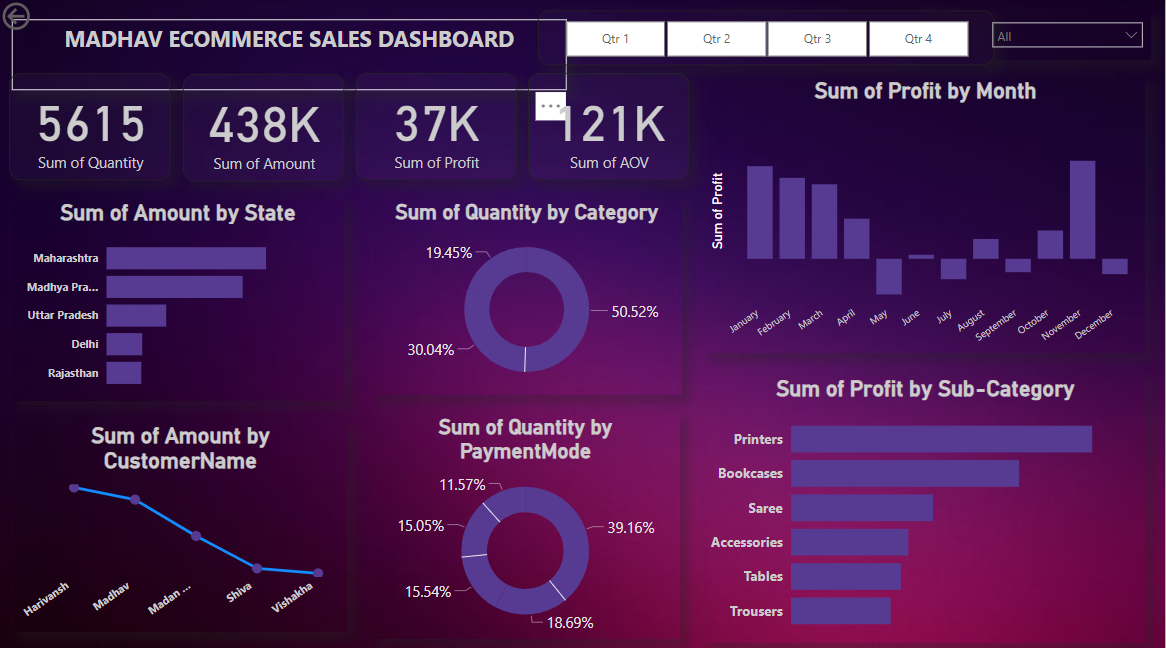

What the dashboard file says about the page in this screenshot:
{"tool":"powerbi","page":{"name":"Page 1","canvas":[1280,720],"ordinal":0},"visuals":[{"type":"textbox","box":[15.1,23.3,608.7,78.1],"z":0},{"type":"clusteredColumnChart","fields":{"Y":["Details.Profit"],"Category":["Orders.Order Date.Variation.Date Hierarchy.Month"]},"box":[776,87.7,482.6,301.6],"z":1000},{"type":"clusteredBarChart","fields":{"Category":["Details.Sub-Category"],"Y":["Details.Profit"]},"box":[776,414.1,482.6,293.4],"z":2000},{"type":"donutChart","fields":{"Category":["Details.Category"],"Y":["Details.Quantity"]},"box":[409.9,220.7,340,215.3],"z":3000},{"type":"donutChart","fields":{"Y":["Details.Quantity"],"Category":["Details.PaymentMode"]},"box":[409.9,456.6,337.3,246.8],"z":4000},{"type":"card","fields":{"Values":["Details.Quantity"]},"box":[12.3,82.3,176.9,117.9],"z":5000},{"type":"card","fields":{"Values":["Details.Amount"]},"box":[202.9,83.6,176.9,117.9],"z":6000},{"type":"card","fields":{"Values":["Details.Profit"]},"box":[392.1,82.3,176.9,117.9],"z":7000},{"type":"card","fields":{"Values":["Details.AOV"]},"box":[581.3,82.3,176.9,117.9],"z":8000},{"type":"clusteredBarChart","fields":{"Category":["Orders.State"],"Y":["Details.Amount"]},"box":[15.1,220.7,364.7,220.7],"z":9000},{"type":"lineChart","fields":{"Category":["Orders.CustomerName"],"Y":["Details.Amount"]},"box":[17.8,466.2,364.7,229],"z":10000},{"type":"slicer","fields":{"Values":["Orders.Order Date.Variation.Date Hierarchy.Quarter"]},"box":[592.3,13.7,500.4,60.3],"z":11000},{"type":"slicer","fields":{"Values":["Orders.State"]},"box":[1080.4,16.5,185.1,52.1],"z":12000},{"type":"actionButton","box":[0,0,100,40],"z":13000}]}

Visuals, with their boxes on the page's 1280x720 design canvas (x1, y1, x2, y2). These are canvas units, not pixel positions in the 1166x648 screenshot, which may show the page scaled, cropped or inside an application window:
textbox: (x1=15, y1=23, x2=624, y2=101)
clusteredColumnChart - Details.Profit x Orders.Order Date.Variation.Date Hierarchy.Month: (x1=776, y1=88, x2=1259, y2=389)
clusteredBarChart - Details.Sub-Category x Details.Profit: (x1=776, y1=414, x2=1259, y2=708)
donutChart - Details.Category x Details.Quantity: (x1=410, y1=221, x2=750, y2=436)
donutChart - Details.Quantity x Details.PaymentMode: (x1=410, y1=457, x2=747, y2=703)
card - Details.Quantity: (x1=12, y1=82, x2=189, y2=200)
card - Details.Amount: (x1=203, y1=84, x2=380, y2=202)
card - Details.Profit: (x1=392, y1=82, x2=569, y2=200)
card - Details.AOV: (x1=581, y1=82, x2=758, y2=200)
clusteredBarChart - Orders.State x Details.Amount: (x1=15, y1=221, x2=380, y2=441)
lineChart - Orders.CustomerName x Details.Amount: (x1=18, y1=466, x2=382, y2=695)
slicer - Orders.Order Date.Variation.Date Hierarchy.Quarter: (x1=592, y1=14, x2=1093, y2=74)
slicer - Orders.State: (x1=1080, y1=16, x2=1266, y2=69)
actionButton: (x1=0, y1=0, x2=100, y2=40)
